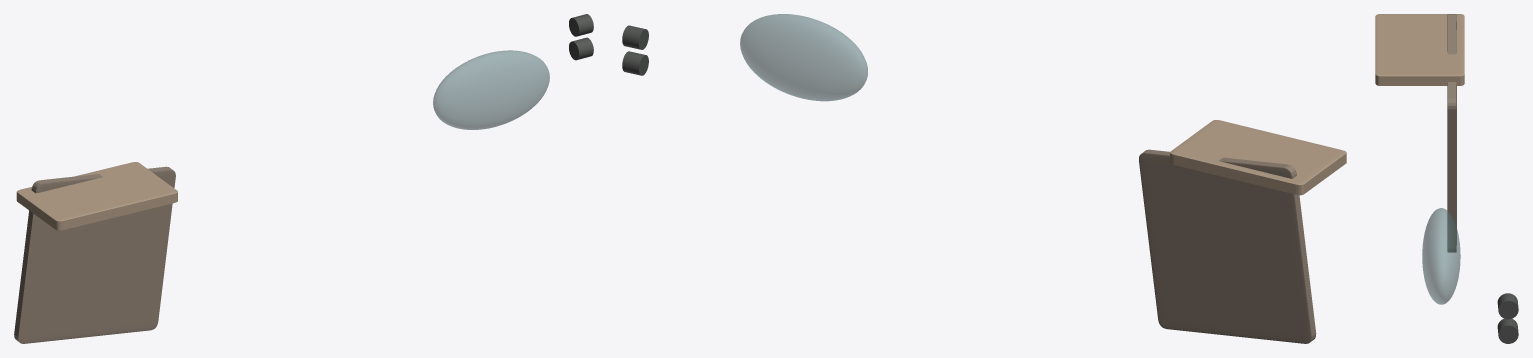
The model's file is d-u26-dominion-bomber-lod2.glb.
3 renders of one model, left to right at view 1: azimuth 30°, elevation 25°; view 2: azimuth 150°, elevation 25°; view 3: azimuth 270°, elevation 25°, orthographic. The views are drawn at different scales.
Parts seen in each view (by area): view 1: combat_tailplane_-1, combat_canopy, combat_fin_0, combat_gun_muzzle_1, combat_gun_muzzle_0; view 2: combat_tailplane_-1, combat_canopy, combat_fin_0, combat_gun_muzzle_0; view 3: combat_fin_0, combat_canopy, combat_tailplane_-1, combat_gun_muzzle_1, combat_gun_muzzle_0.
Boxes of the visible parts, left/top/right/bottom form: combat_tailplane_-1: left=14, top=166, right=175, bottom=343; combat_canopy: left=433, top=50, right=549, bottom=129; combat_fin_0: left=16, top=162, right=177, bottom=230; combat_gun_muzzle_1: left=569, top=14, right=593, bottom=36; combat_gun_muzzle_0: left=569, top=37, right=593, bottom=60; combat_tailplane_-1: left=1139, top=149, right=1316, bottom=343; combat_canopy: left=740, top=14, right=867, bottom=101; combat_fin_0: left=1170, top=120, right=1346, bottom=195; combat_gun_muzzle_0: left=622, top=51, right=648, bottom=75; combat_fin_0: left=1375, top=14, right=1464, bottom=85; combat_canopy: left=1422, top=208, right=1460, bottom=304; combat_tailplane_-1: left=1447, top=14, right=1456, bottom=252; combat_gun_muzzle_1: left=1497, top=293, right=1518, bottom=319; combat_gun_muzzle_0: left=1497, top=318, right=1518, bottom=343.
Size of what is drawn, in the model's own units: 17.08 by 5.35 by 3.38.
